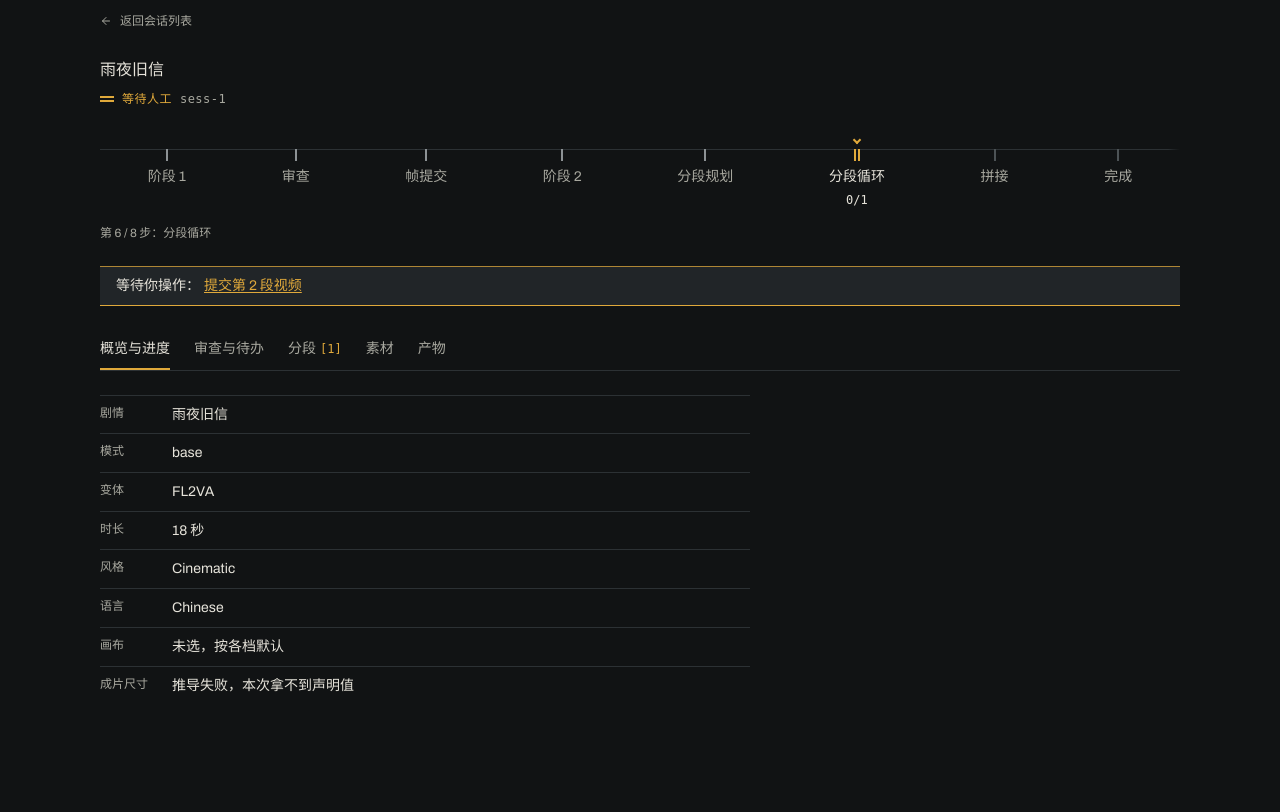
SessionDetailView 指路（2026-11-21 layout） › 段视频待办指向「分段」，交付待办指向「交付」
The image size is (1280, 812).
Click the button "提交第 2 段视频".
click(253, 286)  # box [204, 275, 302, 297]
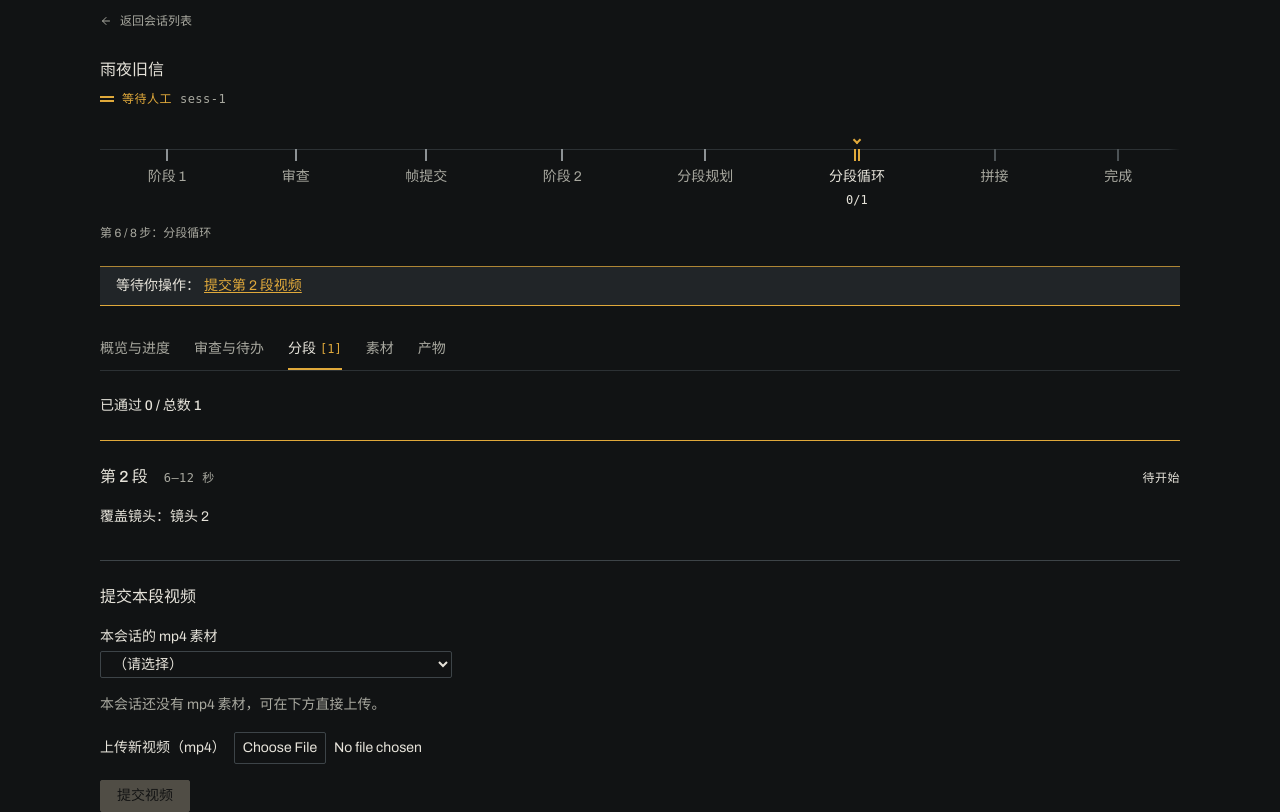
expect the panel with id "workbench-panel-segments" is shown: met, box [100, 395, 1180, 811]
